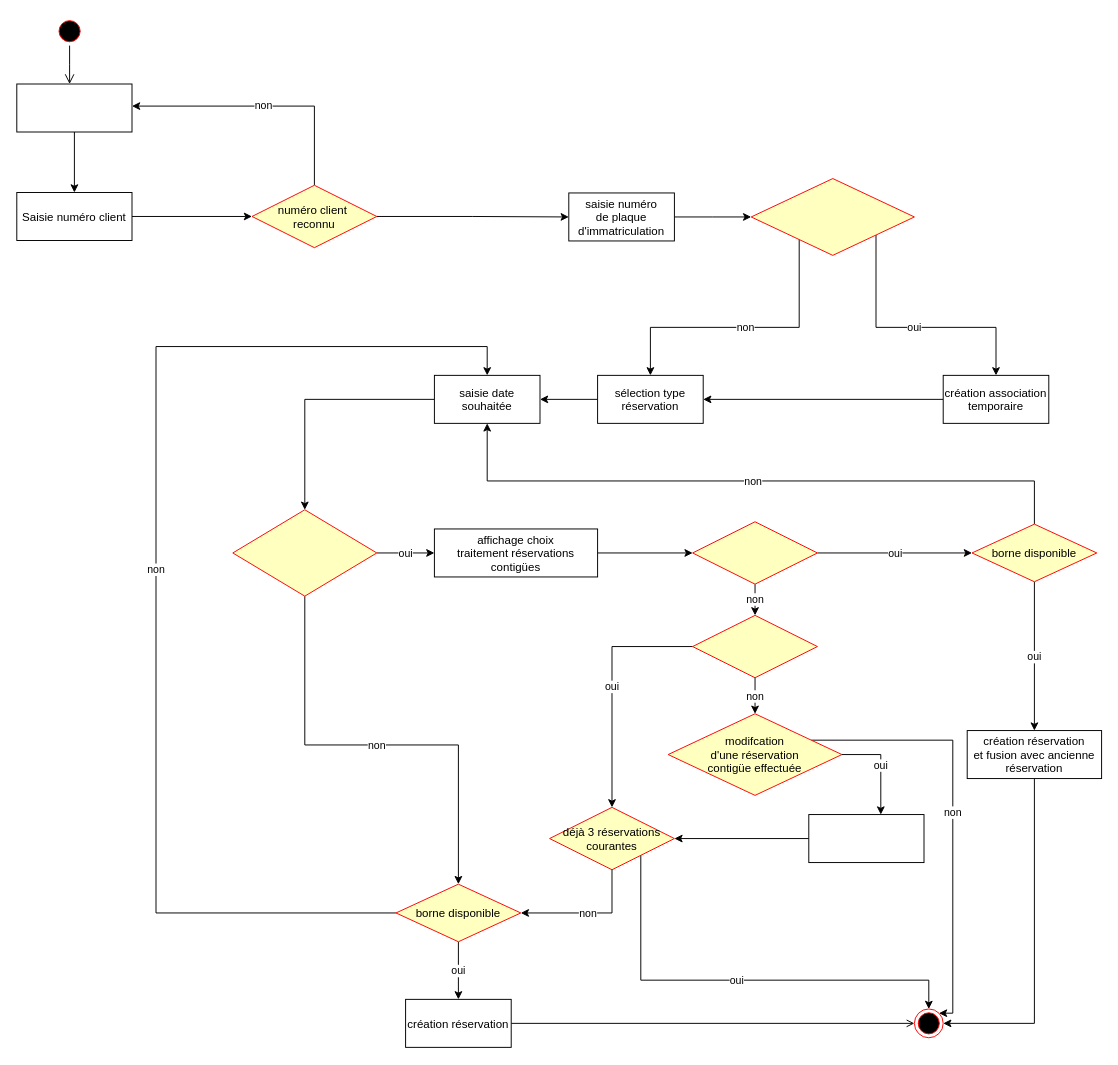
Image size: 1118x1065. Some labels were removed from this diagram. Here are the shapes that lost their labels. From the top down, the box of each, then its label:
(16, 83, 132, 132): Accès à l'application en tant que client
(750, 178, 914, 255): immatriculation différente de celle enregistrée
(232, 509, 377, 596): date contigüe à une autre réservation
(692, 521, 817, 584): fusion de réservation effectuée
(692, 614, 817, 678): annulation réservation effectuée
(808, 814, 924, 863): modification ancienne réservation contigüe
